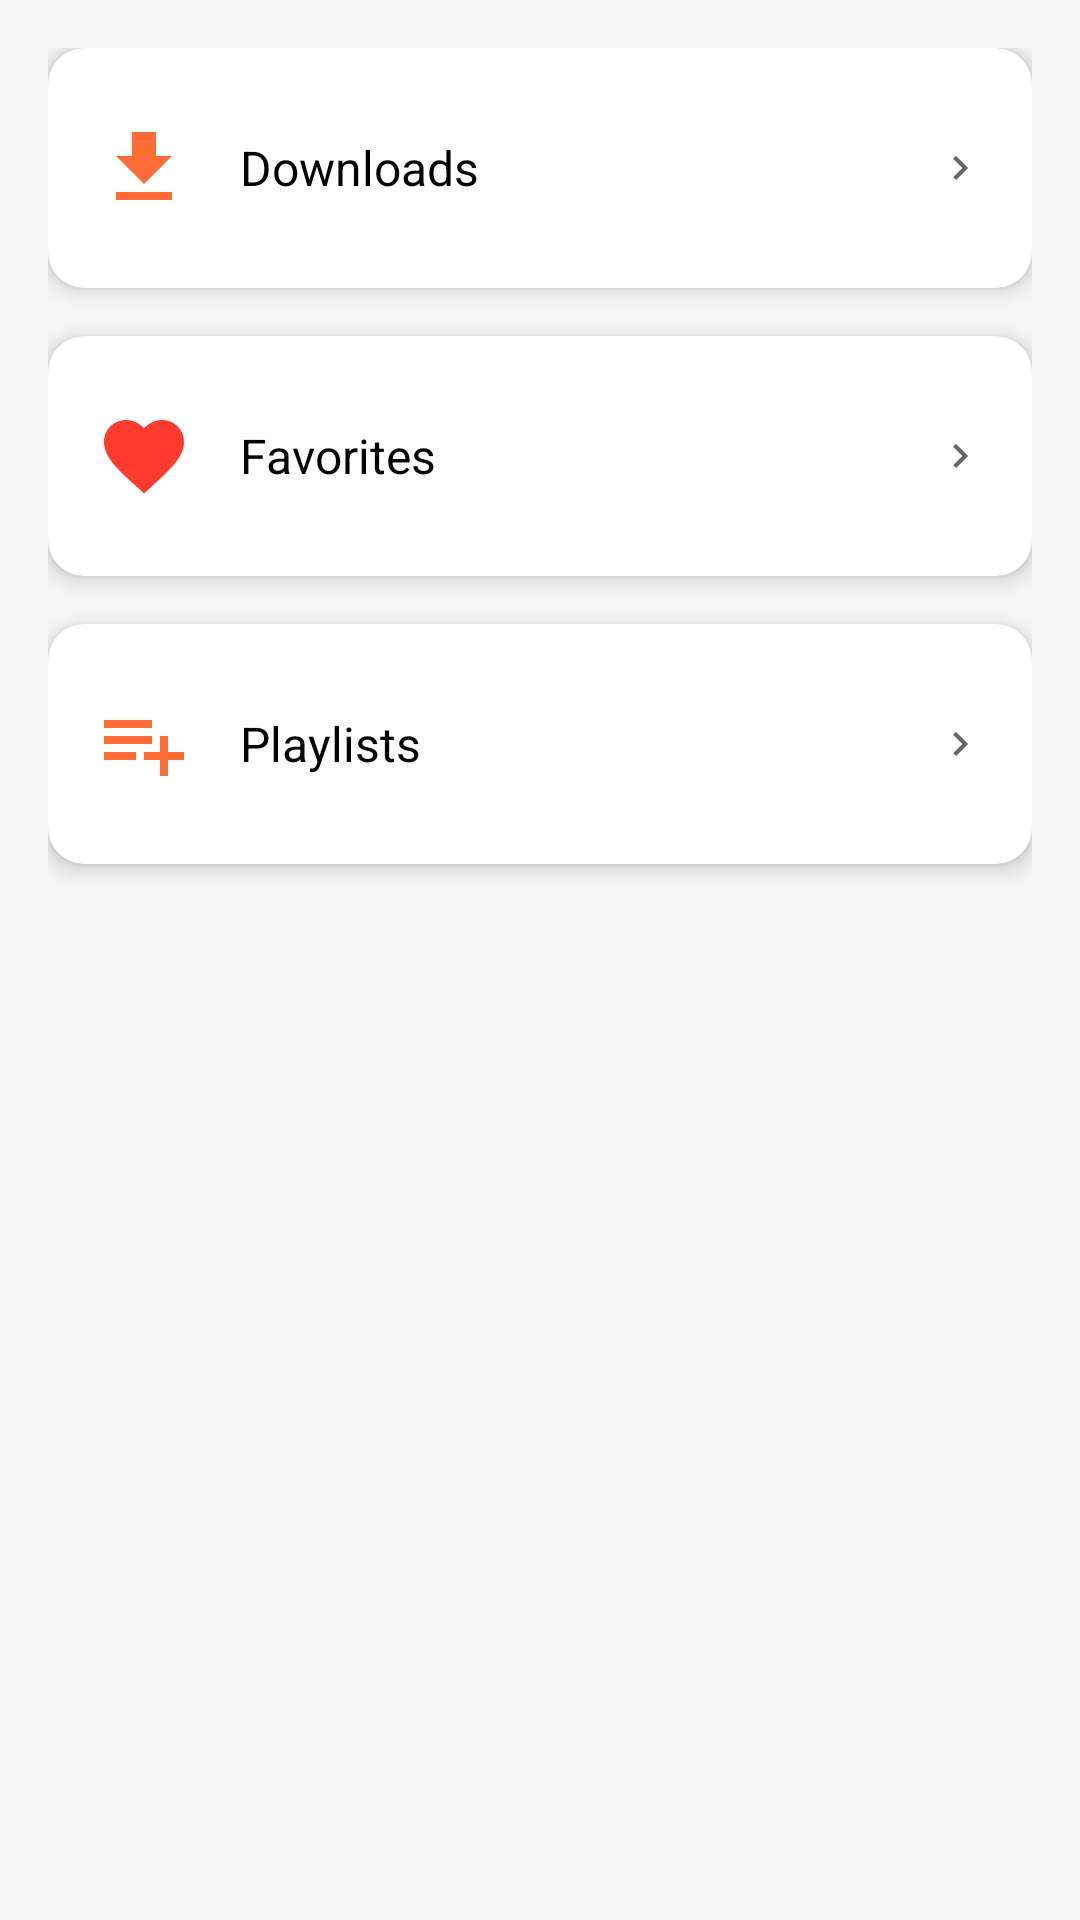

Icon click points for this 1080 x 1920 phone screenshot, format [x,y]:
chevron right: [960,168], [960,456], [960,744]
